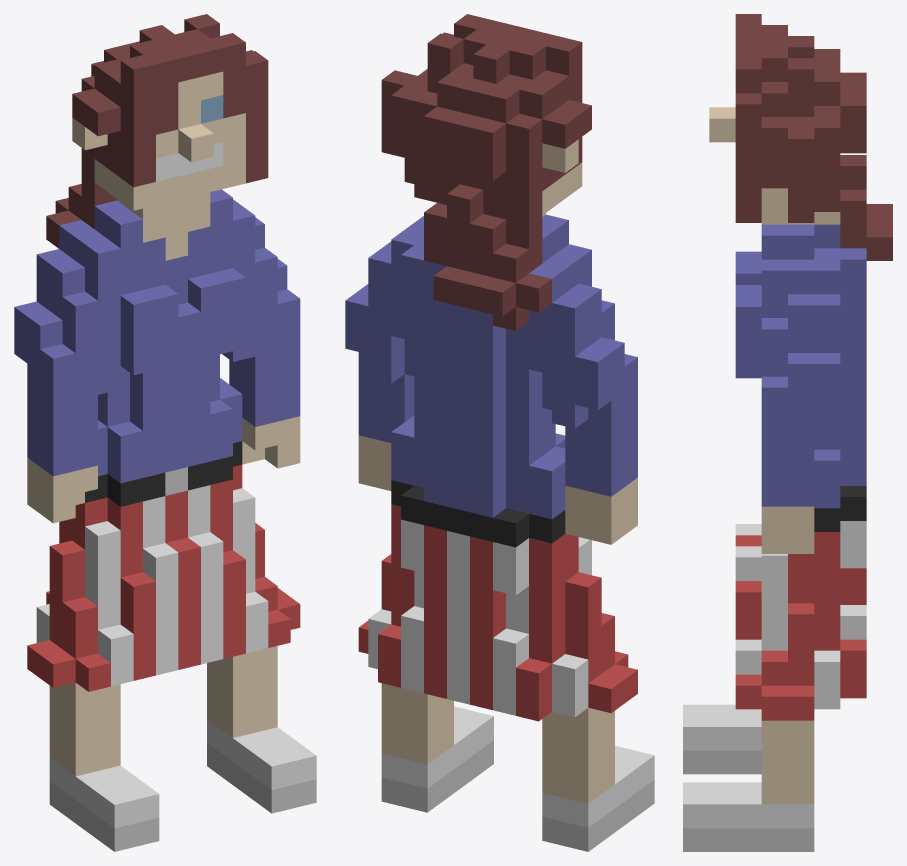
Rendered from girl4_v1.fbx.
3 views of the same model, side by side, from view 1: azimuth 30°, elevation 25°; view 2: azimuth 150°, elevation 25°; view 3: azimuth 270°, elevation 25° (orthographic). The views are drawn at different scales.
Visible parts, largest first — view 1: girl4; view 2: girl4; view 3: girl4.
Part boxes in pixels (bbox=[...]): girl4: bbox=[14, 14, 316, 851]; girl4: bbox=[345, 14, 654, 851]; girl4: bbox=[683, 14, 892, 851].
Size of the model in its own units: 11 by 32 by 8.
